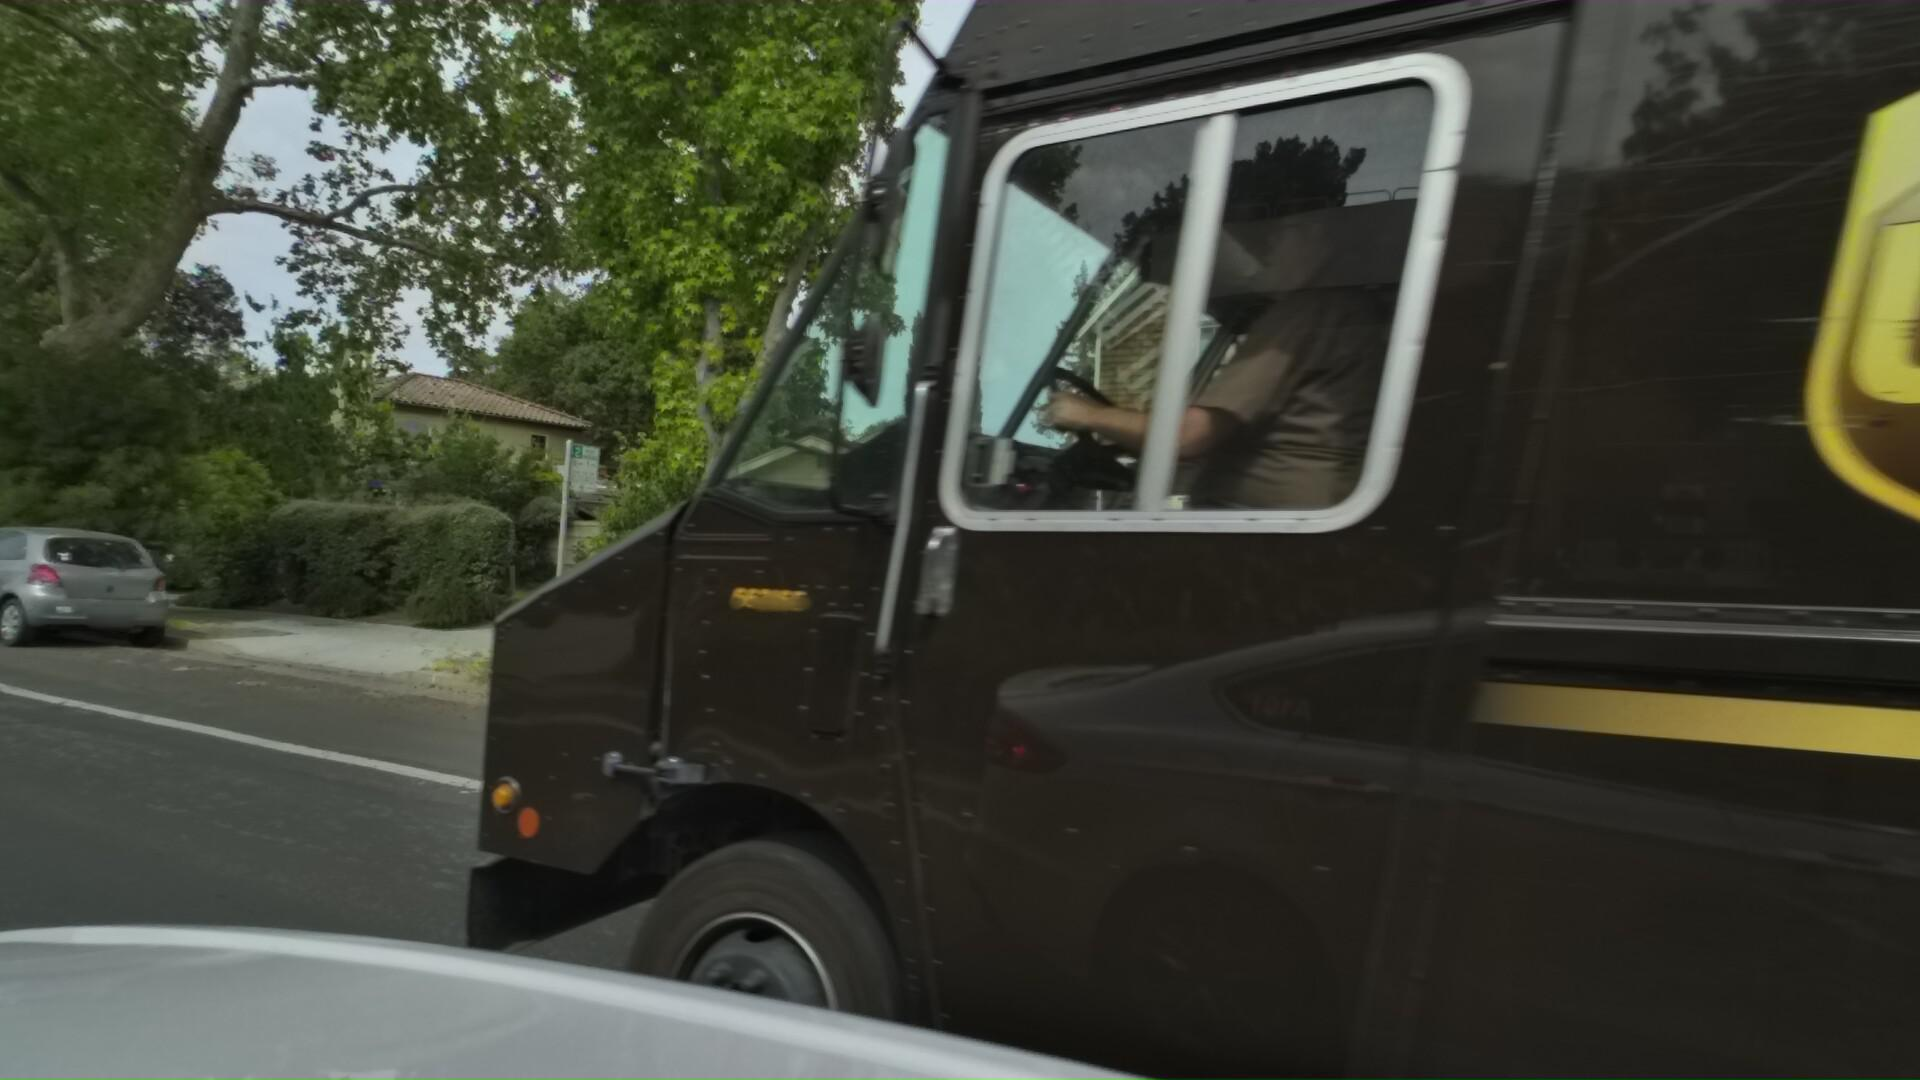car: (585, 516, 1393, 891), (0, 516, 181, 655)
